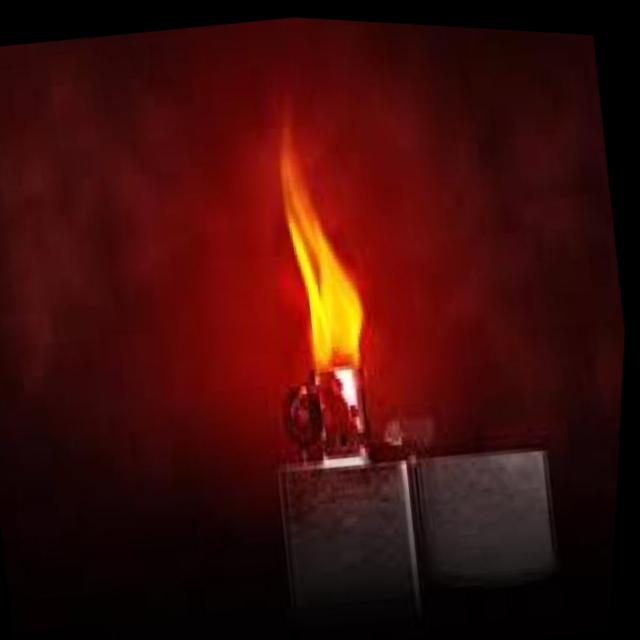Fire: (266, 126, 387, 366)
